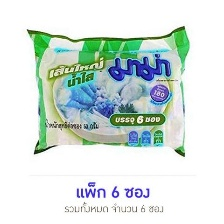snack: (16, 21, 197, 161)
